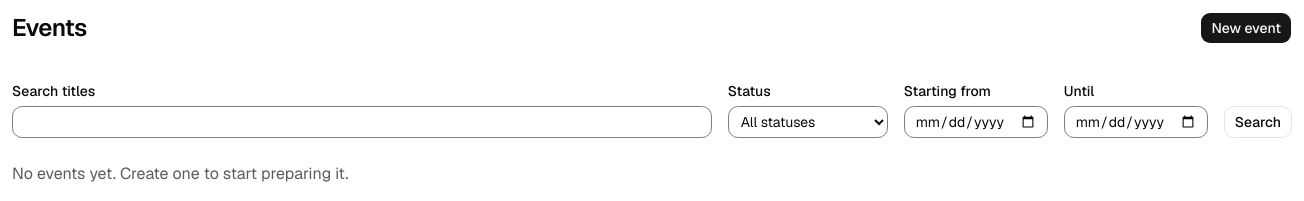
Scenario: EventsPage › filters by a range of days, including the last one
Expected: the text "No events yet. Create one to start preparing it." is shown, [12,163,348,184]
Type "2026-12-01" into the date field labelled "Starting from" at (976, 122), box [904,106,1048,138]
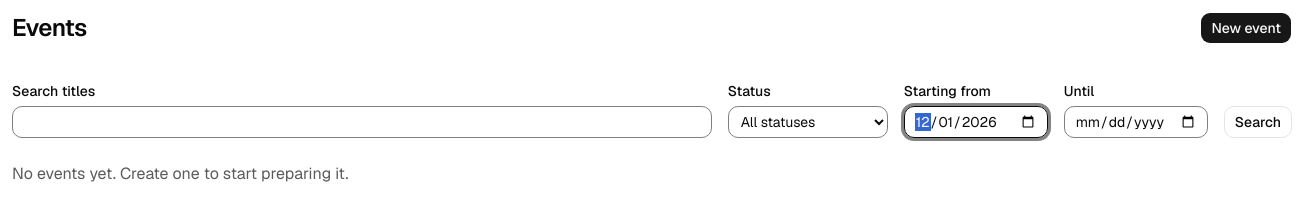
Type "2026-12-07" into the date field labelled "Until" at (1136, 122), box [1064,106,1208,138]
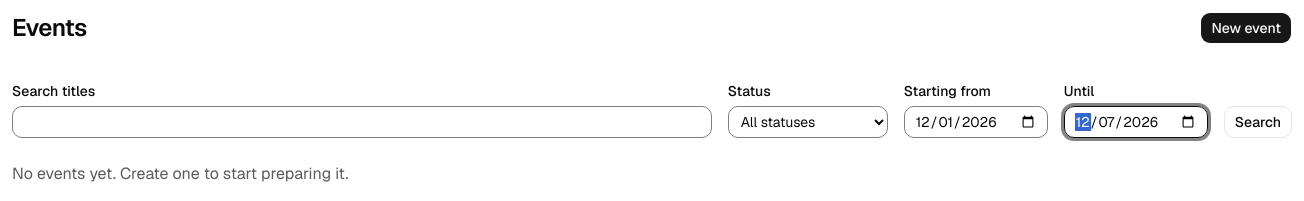
Click the button "Search" at (1258, 122), box [1224,106,1292,138]
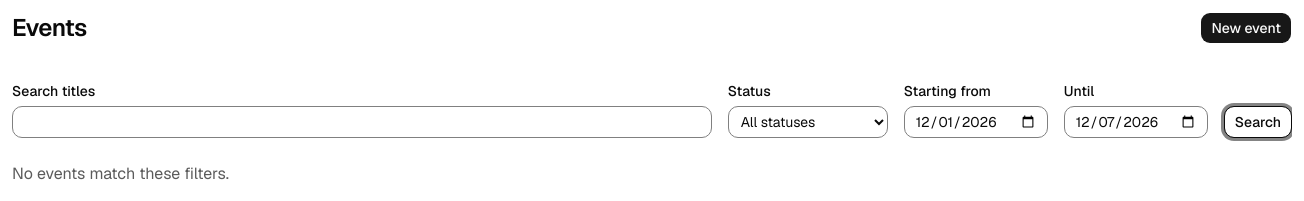
Expected: the text "No events match these filters." is shown, [12,163,229,184]
